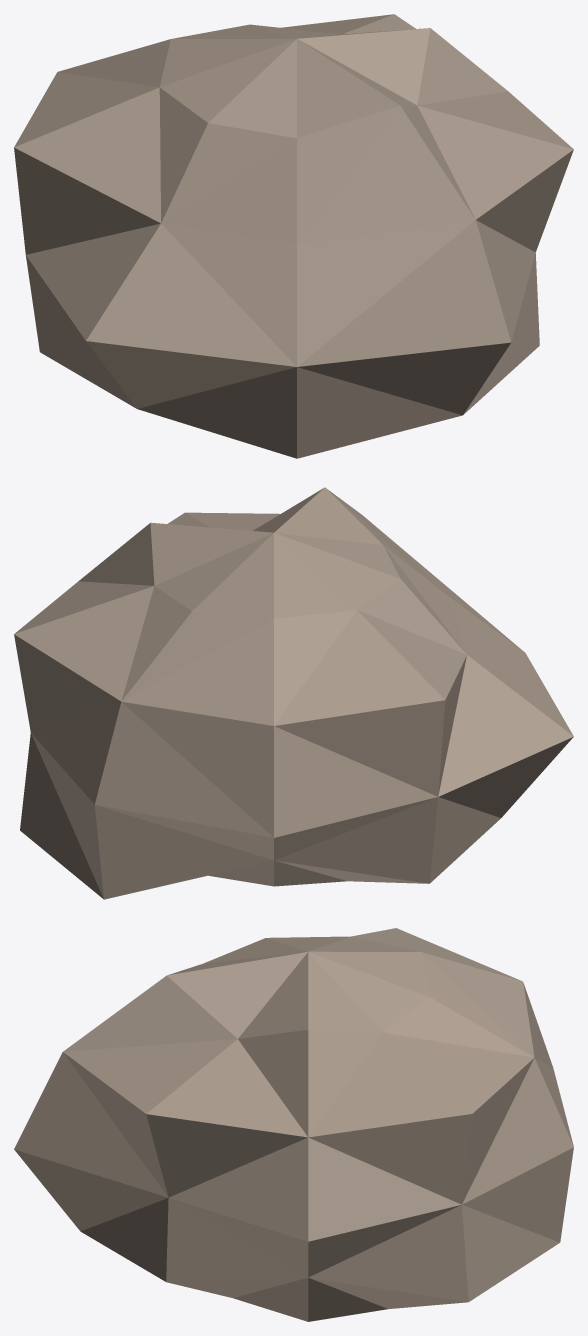
File: rock_round.obj
The picture shows the model from 3 angles, top to bottom: view 1: azimuth 30°, elevation 25°; view 2: azimuth 150°, elevation 25°; view 3: azimuth 270°, elevation 25°; orthographic projection. The views are drawn at different scales.
Bounding box in the file's own units: 3.5 × 2.24 × 3.58.
